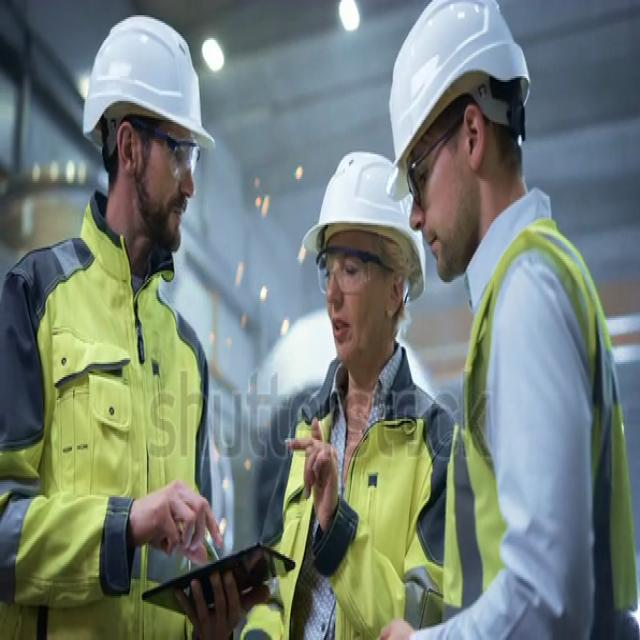goggles: (114, 116, 200, 182), (406, 114, 468, 205), (312, 242, 392, 296)
